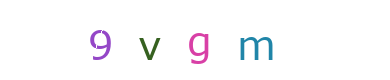9: (109, 0, 189, 80)
G: (155, 0, 235, 80)
M: (213, 0, 293, 80)
V: (111, 0, 191, 80)
